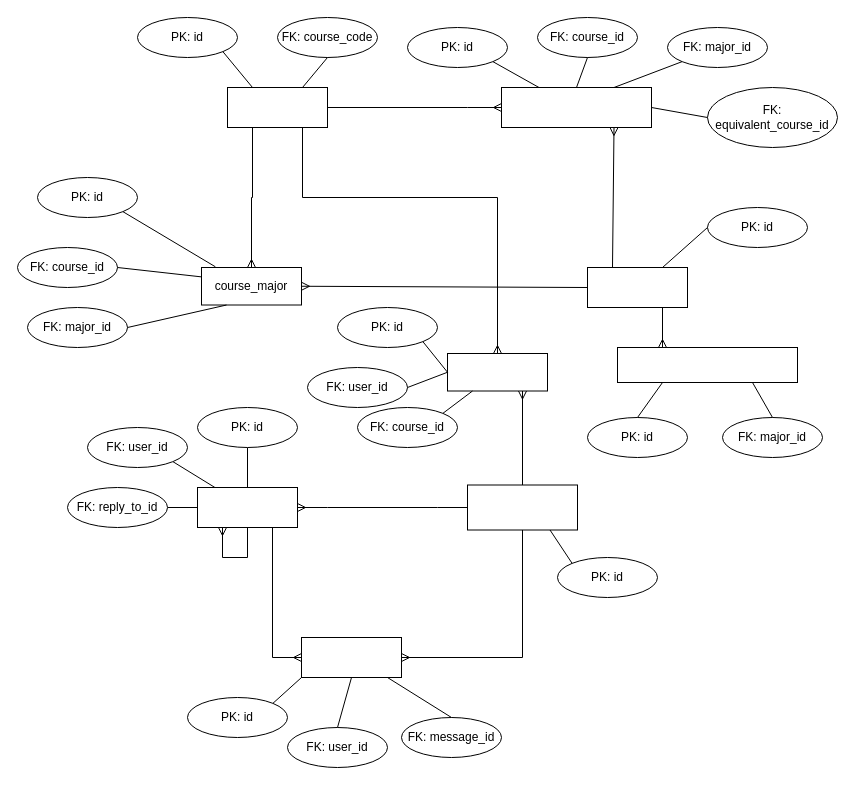
Some shapes in this 855 by 785 pixel diagram are drawn without their labels. The centre of each missing label's shape, as x and y in pixels:
"chat_messages" belongs at point 247,507.
"chat_reaction" belongs at point 351,657.
"course_equivalence" belongs at point 576,107.
"courses" belongs at point 277,107.
"major_requirement_rules" belongs at point 707,364.
"majors" belongs at point 637,287.
"progress" belongs at point 497,371.
"users" belongs at point 522,507.
